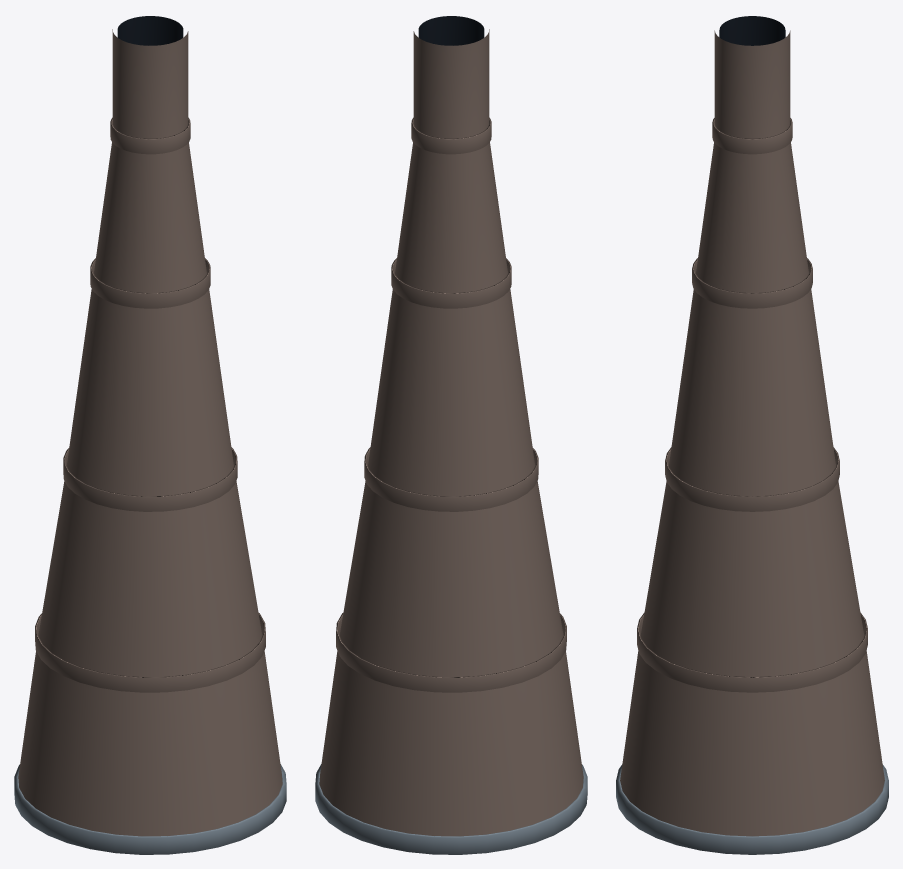
Rendered from falcon9_stage_1.merlin_05.glb.
The picture shows the model from 3 angles, left to right: view 1: azimuth 30°, elevation 25°; view 2: azimuth 150°, elevation 25°; view 3: azimuth 270°, elevation 25°; orthographic projection.
Visible parts, largest first — view 1: falcon9_stage_1.merlin_05.bell.mesh_Heat-stained_alloy, falcon9_stage_1.merlin_05.bell.mesh_Machined_steel, falcon9_stage_1.merlin_05.bell.mesh_Shadowed_interior; view 2: falcon9_stage_1.merlin_05.bell.mesh_Heat-stained_alloy, falcon9_stage_1.merlin_05.bell.mesh_Machined_steel, falcon9_stage_1.merlin_05.bell.mesh_Shadowed_interior; view 3: falcon9_stage_1.merlin_05.bell.mesh_Heat-stained_alloy, falcon9_stage_1.merlin_05.bell.mesh_Machined_steel, falcon9_stage_1.merlin_05.bell.mesh_Shadowed_interior.
Boxes of the visible parts, x1,y1,x2,y2 form: falcon9_stage_1.merlin_05.bell.mesh_Heat-stained_alloy: (18, 29, 282, 836); falcon9_stage_1.merlin_05.bell.mesh_Machined_steel: (14, 764, 286, 854); falcon9_stage_1.merlin_05.bell.mesh_Shadowed_interior: (117, 16, 183, 45); falcon9_stage_1.merlin_05.bell.mesh_Heat-stained_alloy: (319, 29, 583, 836); falcon9_stage_1.merlin_05.bell.mesh_Machined_steel: (315, 764, 587, 854); falcon9_stage_1.merlin_05.bell.mesh_Shadowed_interior: (418, 16, 484, 45); falcon9_stage_1.merlin_05.bell.mesh_Heat-stained_alloy: (620, 30, 884, 836); falcon9_stage_1.merlin_05.bell.mesh_Machined_steel: (616, 764, 888, 854); falcon9_stage_1.merlin_05.bell.mesh_Shadowed_interior: (719, 16, 785, 45).
Size of the model in its own units: 0.8764 by 2.72 by 0.8764.
